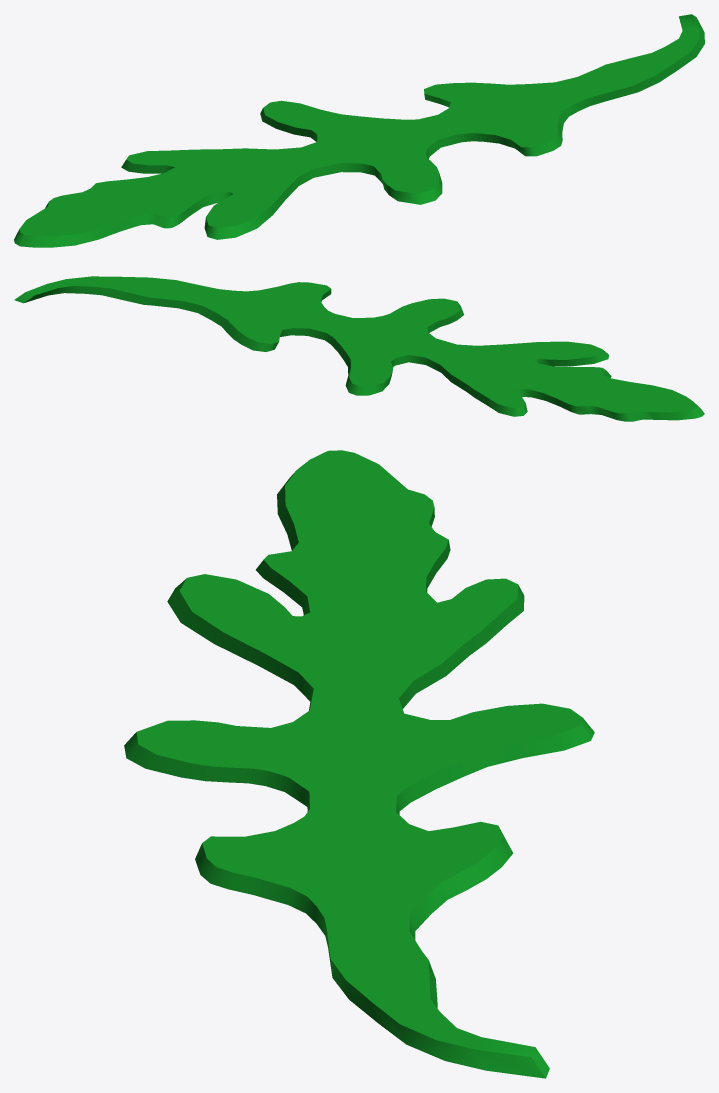
Rendered from Arugula_Hotdog.fbx.
3 renders of one model, top to bottom at view 1: azimuth 30°, elevation 25°; view 2: azimuth 150°, elevation 25°; view 3: azimuth 270°, elevation 25°, orthographic. The views are drawn at different scales.
Visible parts, largest first — view 1: Arugula_Hotdog; view 2: Arugula_Hotdog; view 3: Arugula_Hotdog.
Boxes of the visible parts, bbox=[...] form: Arugula_Hotdog: bbox=[14, 14, 704, 247]; Arugula_Hotdog: bbox=[14, 276, 704, 421]; Arugula_Hotdog: bbox=[124, 450, 594, 1078].
Bounding box in the file's own units: 115 × 37.02 × 1.22.
